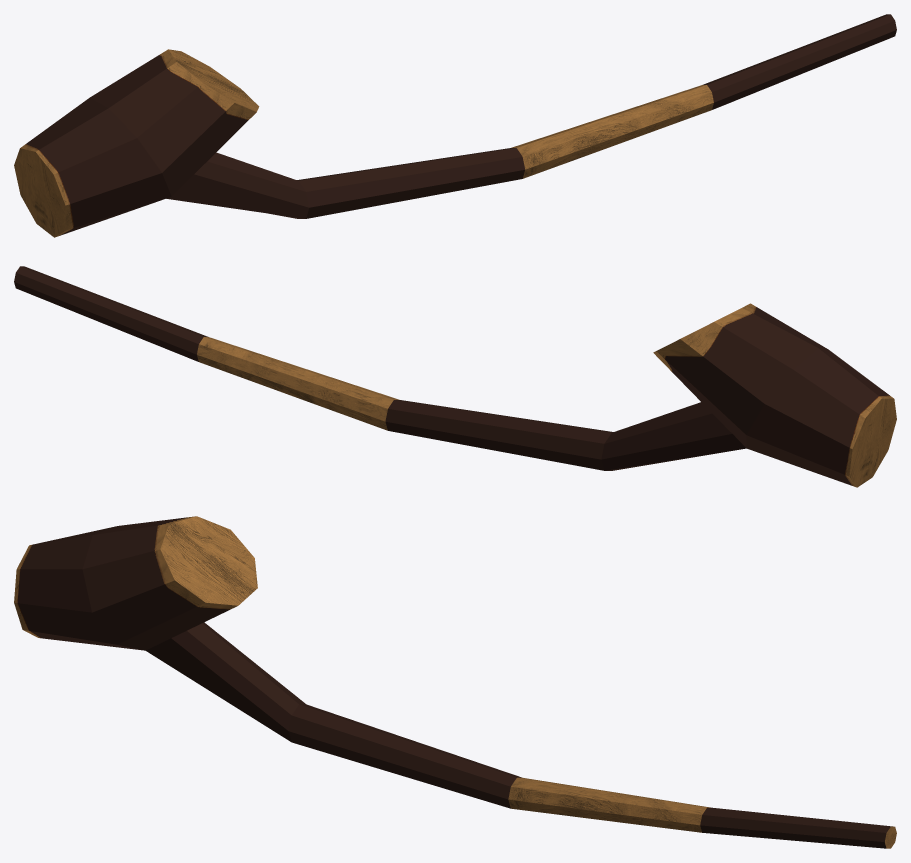
Rendered from HeavyShillelagh.fbx.
The picture shows the model from 3 angles, top to bottom: view 1: azimuth 30°, elevation 25°; view 2: azimuth 150°, elevation 25°; view 3: azimuth 330°, elevation 25°; orthographic projection.
Visible parts, largest first — view 1: ZomboidHeavyShillelagh; view 2: ZomboidHeavyShillelagh; view 3: ZomboidHeavyShillelagh.
Boxes of the visible parts, x1,y1,x2,y2 form: ZomboidHeavyShillelagh: (14, 14, 896, 237); ZomboidHeavyShillelagh: (14, 266, 896, 487); ZomboidHeavyShillelagh: (14, 516, 896, 848).
Size of the model in its own units: 0.753 by 0.1711 by 0.0963.
